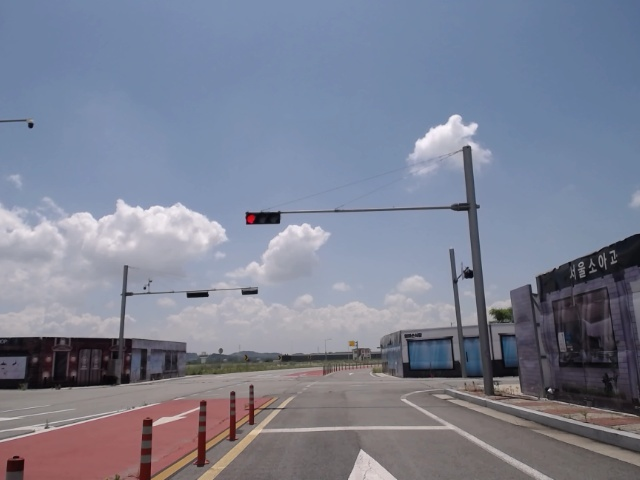red_3: (243, 213, 282, 224)
